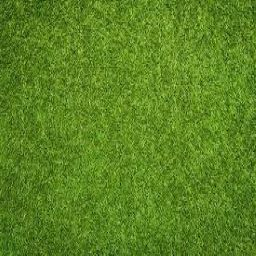grass: (2, 3, 249, 248)
